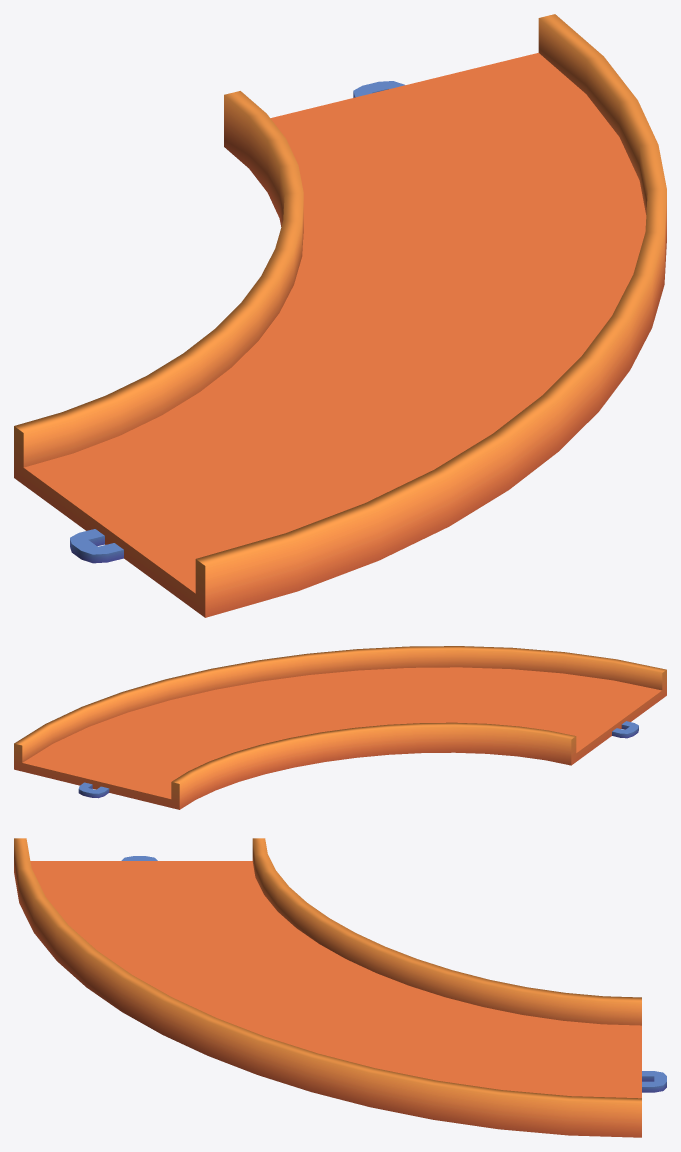
The model's file is track-wide-corner-large.glb.
3 views of the same model, one above another, from view 1: azimuth 30°, elevation 25°; view 2: azimuth 150°, elevation 25°; view 3: azimuth 270°, elevation 25° (orthographic). The views are drawn at different scales.
Visible parts, largest first — view 1: track-wide-corner-large; view 2: track-wide-corner-large; view 3: track-wide-corner-large.
Part boxes in pixels (<box>): track-wide-corner-large: <box>14,14,666,617</box>; track-wide-corner-large: <box>14,646,666,809</box>; track-wide-corner-large: <box>14,838,666,1137</box>.
Bounding box in the file's own units: 5.2 × 0.3003 × 5.2.
Materials: 1 (1 with a texture image).
